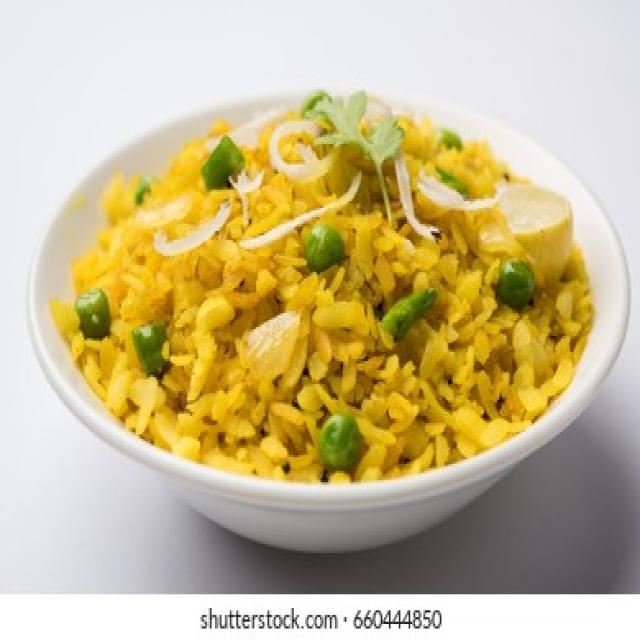POHA: (56, 94, 591, 478)
